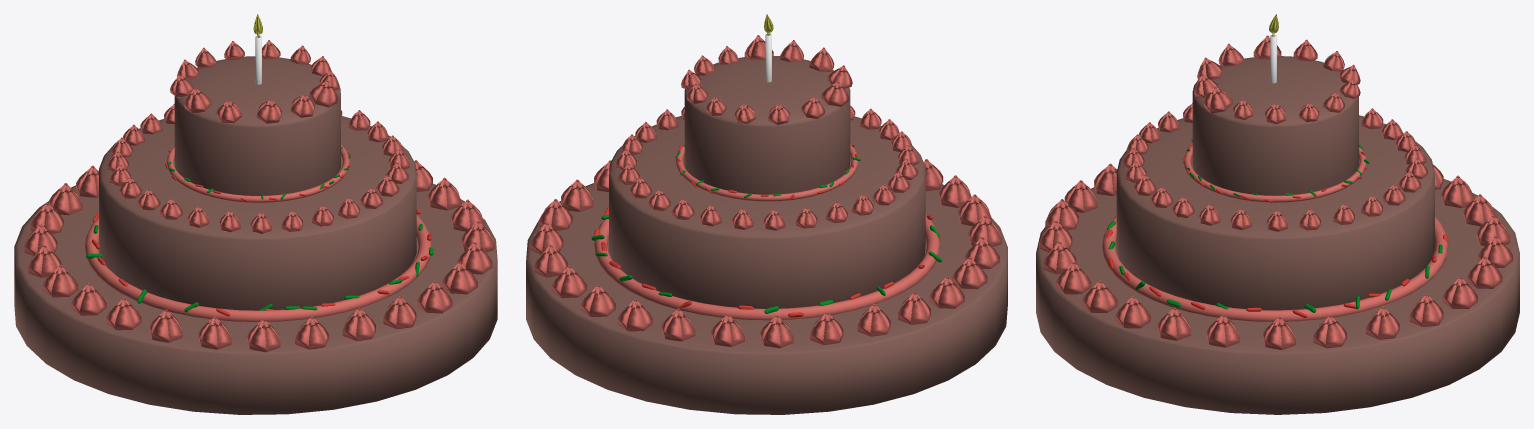
The model's file is LBSR_Cake.fbx.
3 views of the same model, side by side, from view 1: azimuth 30°, elevation 25°; view 2: azimuth 150°, elevation 25°; view 3: azimuth 270°, elevation 25° (orthographic).
Visible parts, largest first — view 1: Bottom layer, Middle layer, Top layer, frosting, frosting 2, Circle.017, Circle.014, Circle.003, Circle.016, Circle.013, Circle.004, Circle.002 (+16 smaller); view 2: Bottom layer, Middle layer, Top layer, frosting, frosting 2, Circle.014, Circle.024, Circle.025, Circle.026, Circle.021, Circle.020, Circle.023 (+14 smaller); view 3: Bottom layer, Middle layer, Top layer, frosting, frosting 2, Circle.003, Circle.025, Circle.009, Circle.007, Circle.006, Circle.005, Circle.004 (+14 smaller).
Boxes of the visible parts, x1,y1,x2,y2 form: Bottom layer: [14, 183, 497, 414]; Middle layer: [99, 116, 416, 310]; Top layer: [174, 56, 340, 195]; frosting: [85, 214, 431, 321]; frosting 2: [166, 144, 349, 202]; Circle.017: [247, 318, 280, 352]; Circle.014: [42, 265, 78, 297]; Circle.003: [417, 280, 452, 313]; Circle.016: [198, 316, 231, 349]; Circle.013: [71, 283, 106, 315]; Circle.004: [442, 261, 477, 294]; Circle.002: [295, 316, 328, 349]; Bottom layer: [526, 183, 1007, 414]; Middle layer: [609, 115, 925, 308]; Top layer: [684, 56, 850, 194]; frosting: [594, 214, 940, 320]; frosting 2: [676, 144, 858, 201]; Circle.014: [929, 276, 964, 308]; Circle.024: [617, 299, 652, 331]; Circle.025: [580, 284, 615, 317]; Circle.026: [551, 265, 586, 298]; Circle.021: [661, 308, 695, 341]; Circle.020: [810, 312, 843, 345]; Circle.023: [760, 315, 793, 348]; Bottom layer: [1036, 179, 1519, 414]; Middle layer: [1116, 115, 1434, 310]; Top layer: [1192, 56, 1358, 195]; frosting: [1102, 215, 1448, 321]; frosting 2: [1184, 145, 1366, 202]; Circle.003: [1056, 262, 1091, 294]; Circle.025: [1467, 256, 1502, 288]; Circle.009: [1157, 307, 1190, 340]; Circle.007: [1365, 306, 1399, 339]; Circle.006: [1409, 294, 1443, 326]; Circle.005: [1115, 296, 1150, 328]; Circle.004: [1082, 280, 1117, 312].
Bounding box in the file's own units: 1.5 × 1.05 × 1.5.
